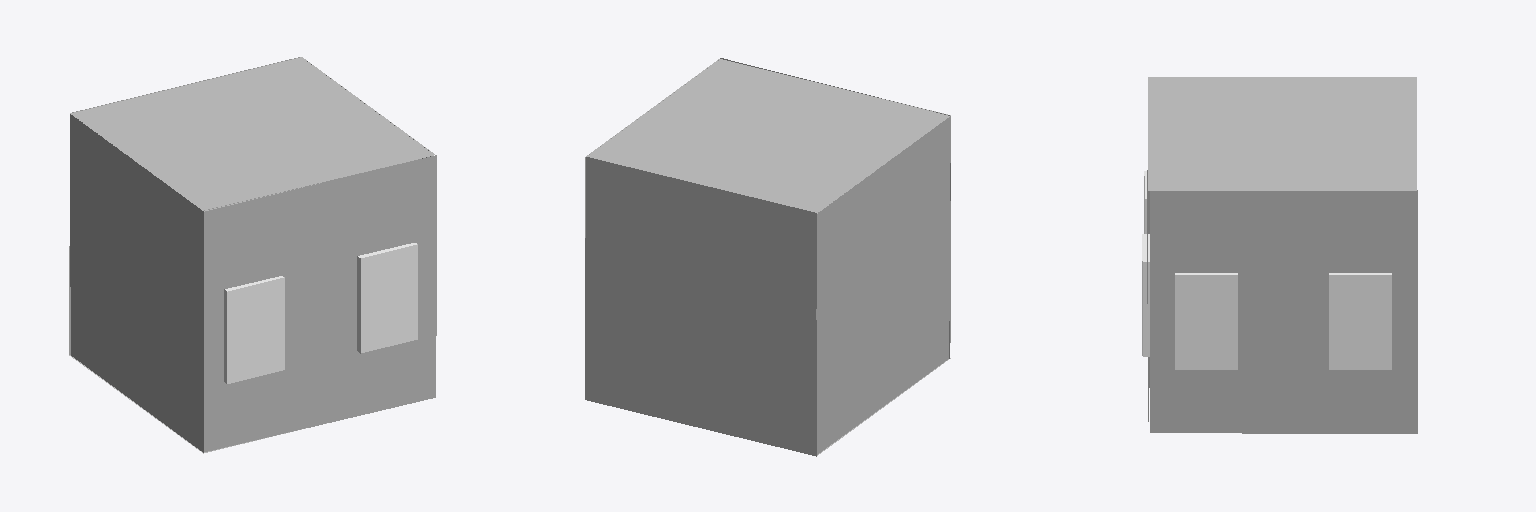
The model's file is aaa.obj.
The picture shows the model from 3 angles: view 1: azimuth 30°, elevation 25°; view 2: azimuth 150°, elevation 25°; view 3: azimuth 270°, elevation 25°; orthographic projection.
Visible parts, largest first — view 1: Plane.002_Plane.004, Plane.004_Plane.006, Plane.005_Plane.007, CTRL_Hole.002, CTRL_Hole.006; view 2: Plane.001_Plane.003, Plane.004_Plane.006, Plane.005_Plane.007; view 3: Plane.003_Plane.005, Plane.005_Plane.007, CTRL_Hole.001, CTRL_Hole.007, CTRL_Hole.002.
Part boxes in pixels (left/top/right/bottom): Plane.002_Plane.004: left=204, top=155, right=436, bottom=451; Plane.004_Plane.006: left=70, top=114, right=203, bottom=452; Plane.005_Plane.007: left=70, top=57, right=434, bottom=211; CTRL_Hole.002: left=357, top=243, right=417, bottom=353; CTRL_Hole.006: left=224, top=276, right=284, bottom=383; Plane.001_Plane.003: left=585, top=157, right=816, bottom=456; Plane.004_Plane.006: left=816, top=116, right=950, bottom=454; Plane.005_Plane.007: left=586, top=59, right=950, bottom=213; Plane.003_Plane.005: left=1150, top=190, right=1417, bottom=433; Plane.005_Plane.007: left=1148, top=77, right=1416, bottom=190; CTRL_Hole.001: left=1175, top=273, right=1237, bottom=369; CTRL_Hole.007: left=1329, top=273, right=1391, bottom=369; CTRL_Hole.002: left=1142, top=234, right=1149, bottom=356.
Bounding box in the file's own units: 13 × 12.82 × 13.17.